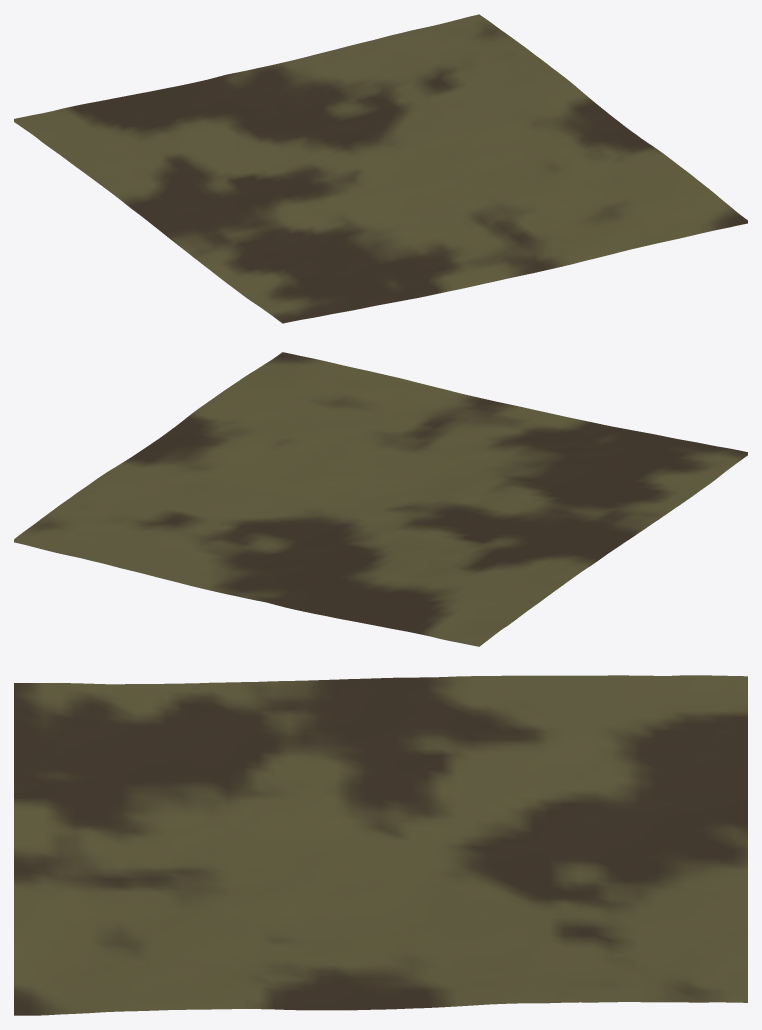
File: land_m_01_07.glb
3 views of the same model, one above another, from view 1: azimuth 30°, elevation 25°; view 2: azimuth 150°, elevation 25°; view 3: azimuth 270°, elevation 25° (orthographic). The views are drawn at different scales.
Parts seen in each view (by area): view 1: land_m_01_07; view 2: land_m_01_07; view 3: land_m_01_07.
Boxes of the visible parts, x1,y1,x2,y2 form: land_m_01_07: (14, 14, 747, 323); land_m_01_07: (14, 352, 747, 646); land_m_01_07: (14, 675, 747, 1015).
Bounding box in the file's own units: 960 × 43.88 × 960.
